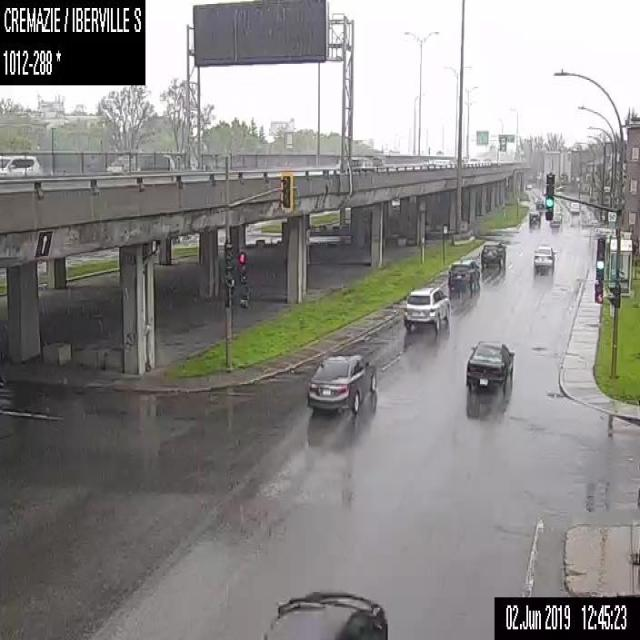vehicle: (262, 588, 386, 639), (306, 353, 378, 415), (464, 338, 514, 390), (403, 284, 451, 332), (446, 259, 479, 292), (105, 149, 150, 172), (0, 152, 43, 176), (480, 241, 506, 269), (532, 244, 554, 269), (350, 156, 378, 172), (528, 209, 541, 227), (441, 156, 453, 168), (570, 200, 580, 213), (429, 158, 442, 168), (468, 156, 481, 165), (534, 197, 544, 208), (549, 216, 560, 226), (553, 210, 562, 222), (482, 157, 490, 166), (524, 183, 531, 189)
